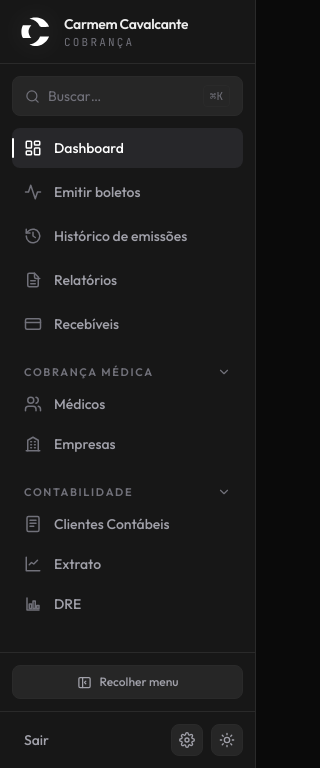
Sidebar — colapso do modo desktop (item 1, polimento UX 2026-07-30) › itens de navegação continuam com nome acessível depois de recolher
This screenshot has width=320, height=768.
Click the button "Recolher menu": [128, 682] box [12,665,243,699]
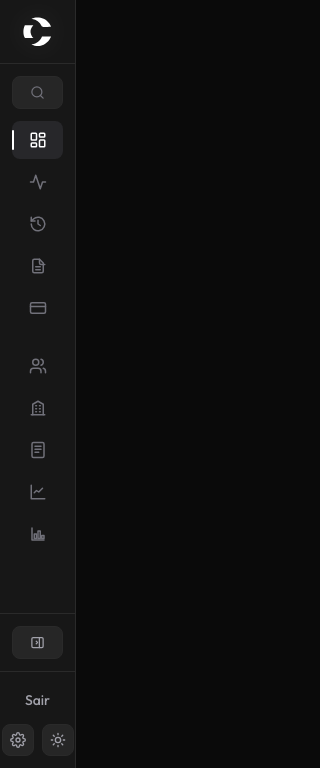
Expected: the link named "Médicos" is shown, [12,347,63,385]
Result: the button named "Expandir menu" is shown at [12,626,63,659]
